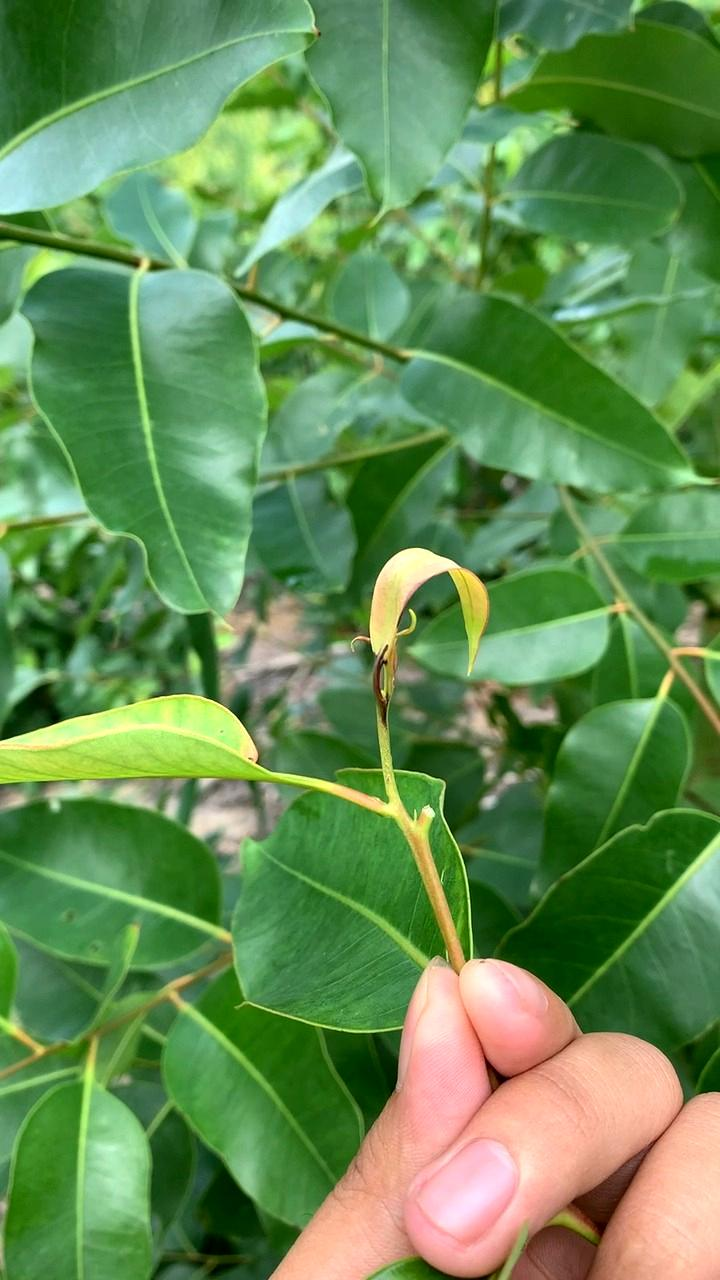Helopeltis-Withered Sprout: (353, 545, 505, 695)
